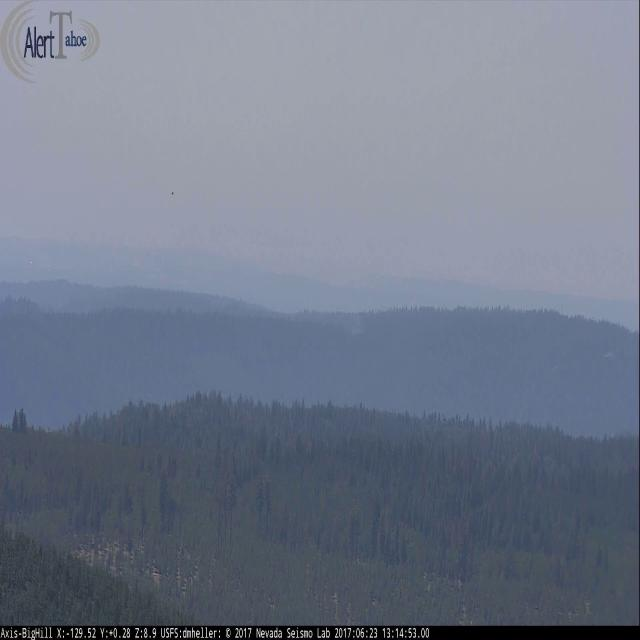smoke: (324, 310, 362, 336)
